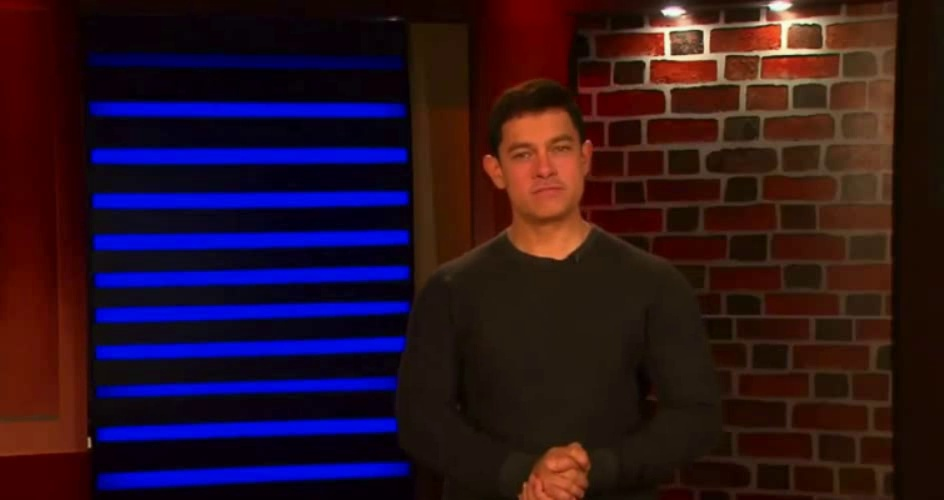fake: (501, 108, 582, 214)
